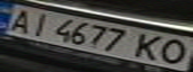4: (48, 16, 75, 44)
6: (66, 20, 90, 47)
7: (103, 25, 133, 55), (87, 22, 109, 51)
A: (0, 7, 39, 34)
I: (21, 10, 57, 38)
K: (130, 32, 172, 62)
O: (151, 37, 193, 66)
